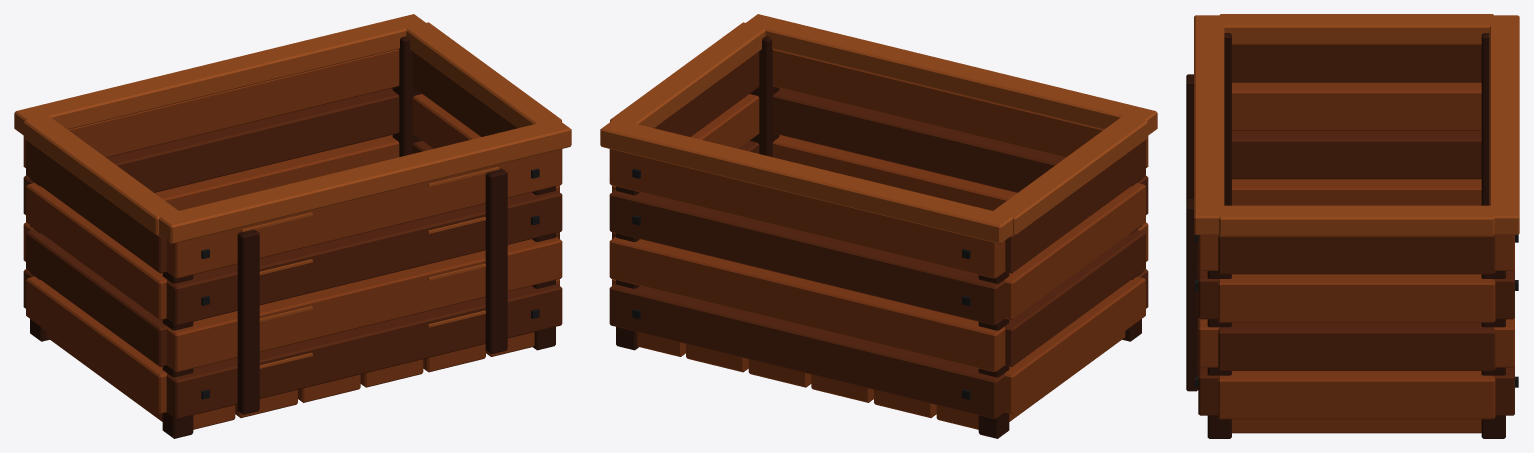
File: KeyCrate.glb
3 views of the same model, side by side, from view 1: azimuth 30°, elevation 25°; view 2: azimuth 150°, elevation 25°; view 3: azimuth 270°, elevation 25° (orthographic). The views are drawn at different scales.
Parts seen in each view (by area): view 1: KeyCrate; view 2: KeyCrate; view 3: KeyCrate.
Boxes of the visible parts, x1,y1,x2,y2 form: KeyCrate: (14, 14, 571, 438); KeyCrate: (600, 14, 1157, 438); KeyCrate: (1186, 14, 1519, 438).
Bounding box in the file's own units: 3.18 × 1.65 × 2.19.
1 material, 1 textured.
